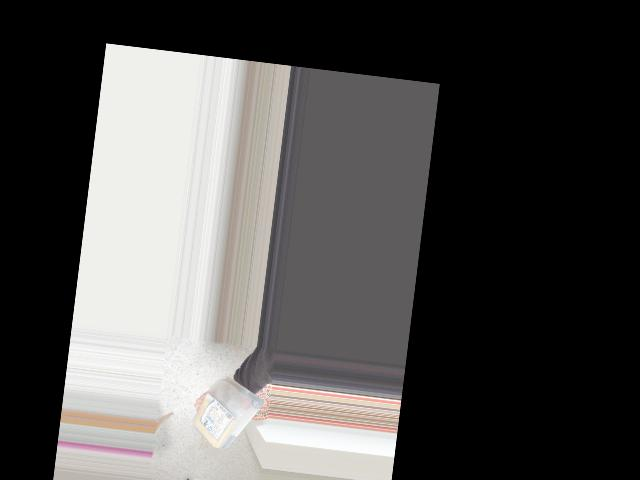cheese: (189, 374, 261, 457)
